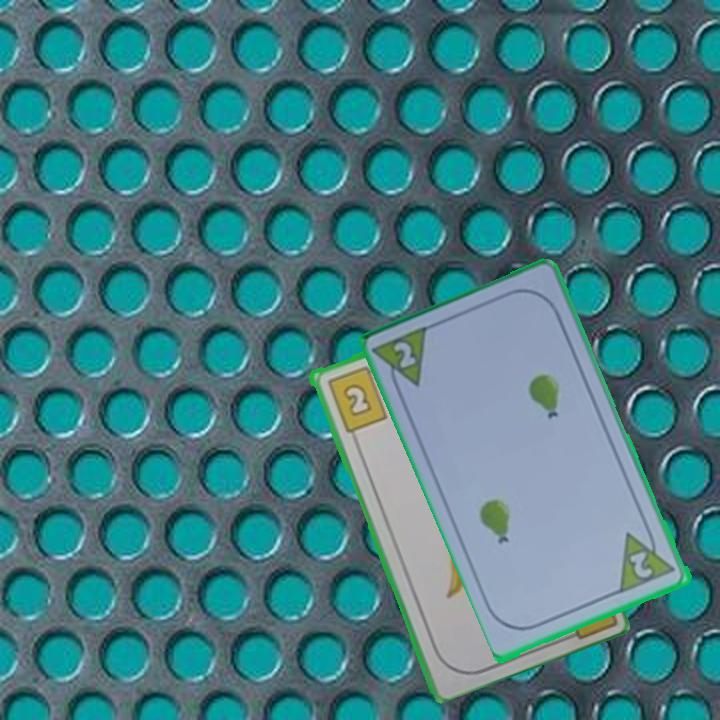2b: (323, 362, 390, 435)
2p: (616, 522, 680, 596), (390, 338, 420, 372)
